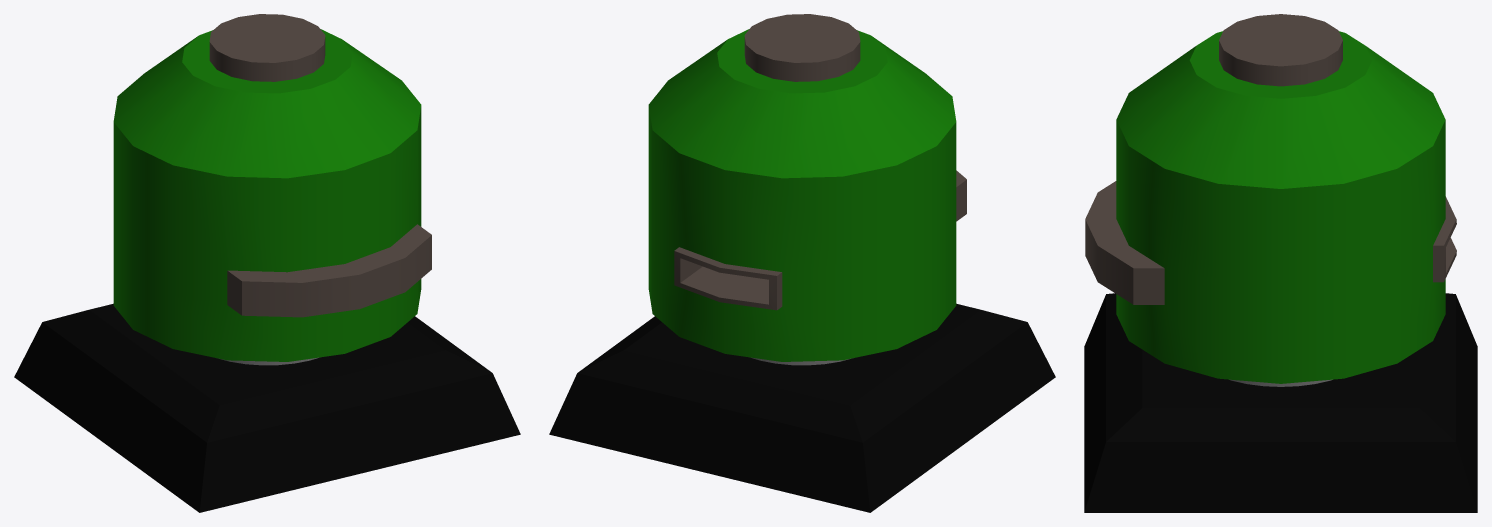
File: turret6_1.fbx
3 views of the same model, side by side, from view 1: azimuth 30°, elevation 25°; view 2: azimuth 150°, elevation 25°; view 3: azimuth 270°, elevation 25° (orthographic). The views are drawn at different scales.
Parts seen in each view (by area): view 1: Cylinder.035, Cube.044; view 2: Cylinder.035, Cube.044; view 3: Cylinder.035, Cube.044.
Boxes of the visible parts, x1,y1,x2,y2 form: Cylinder.035: [113, 14, 431, 361]; Cube.044: [14, 303, 520, 512]; Cylinder.035: [648, 14, 966, 361]; Cube.044: [549, 303, 1055, 512]; Cylinder.035: [1085, 14, 1456, 383]; Cube.044: [1084, 293, 1477, 512].
Size of the model in its own units: 405 by 442 by 405.
